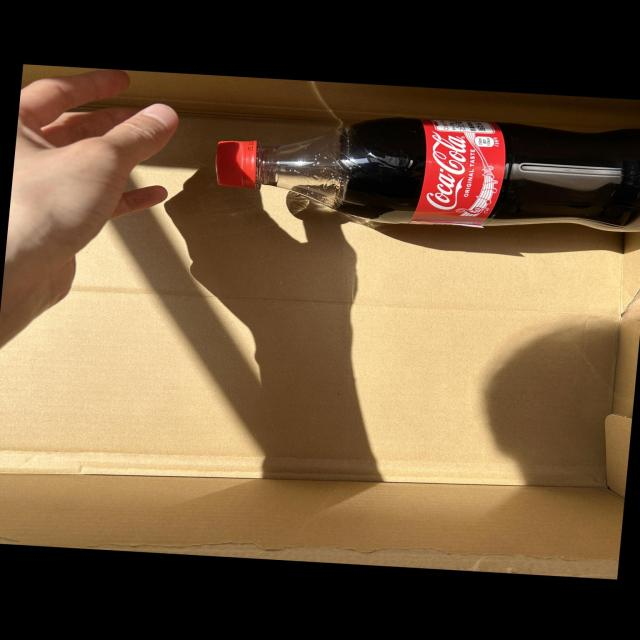high: (216, 118, 640, 231)
